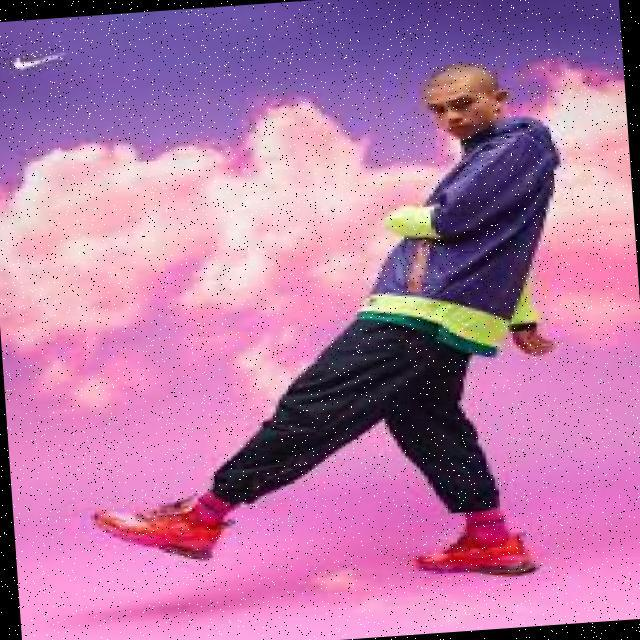Nike: (0, 40, 66, 71)
